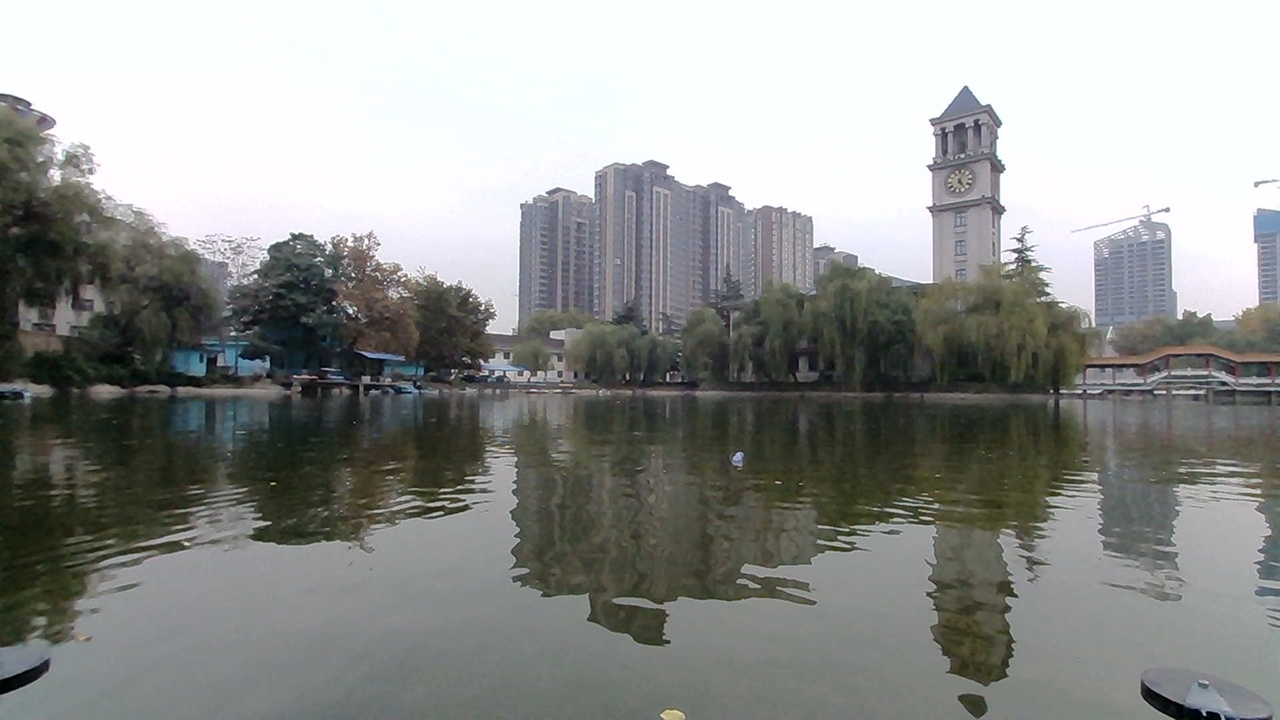bottle: (711, 442, 760, 474)
